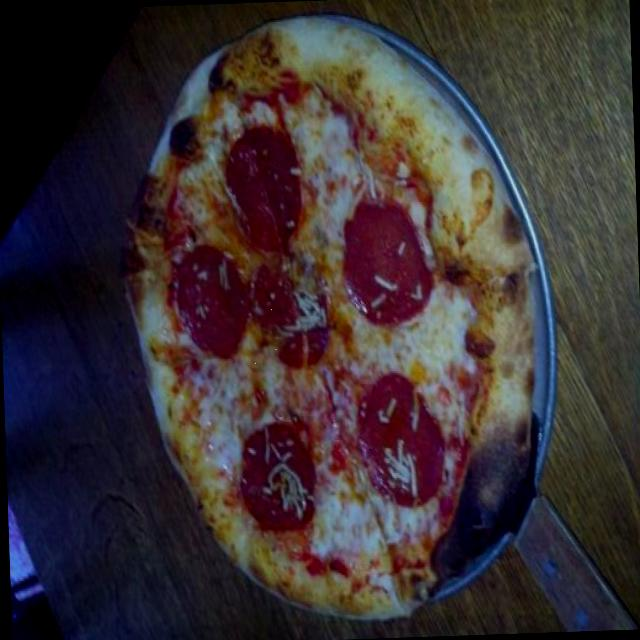pepperoni: (352, 369, 448, 506), (336, 202, 429, 324), (245, 236, 328, 372), (162, 246, 248, 368), (220, 122, 296, 254), (236, 420, 312, 530)
pizza: (124, 18, 546, 619)
